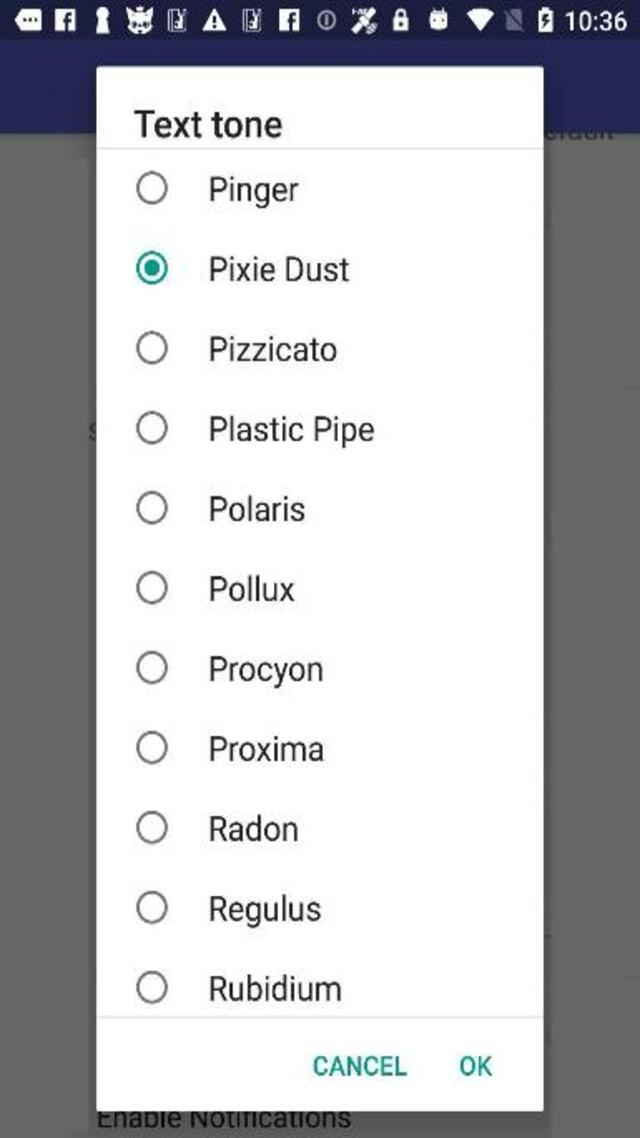CheckedTextView: (136, 412, 374, 449), (136, 251, 349, 286), (136, 970, 340, 1004), (136, 650, 322, 687), (135, 890, 320, 927), (137, 330, 336, 364), (136, 730, 322, 764), (136, 172, 300, 209), (134, 490, 304, 524), (136, 810, 296, 844), (136, 570, 294, 604)
Text: (211, 415, 374, 449), (134, 111, 282, 138), (211, 894, 321, 928), (210, 656, 322, 688), (210, 256, 350, 281), (211, 974, 341, 1000), (210, 336, 336, 361), (210, 175, 298, 209), (210, 736, 322, 761), (210, 495, 305, 522), (210, 575, 295, 602), (212, 814, 298, 840), (312, 1056, 406, 1074), (459, 1055, 492, 1075)
